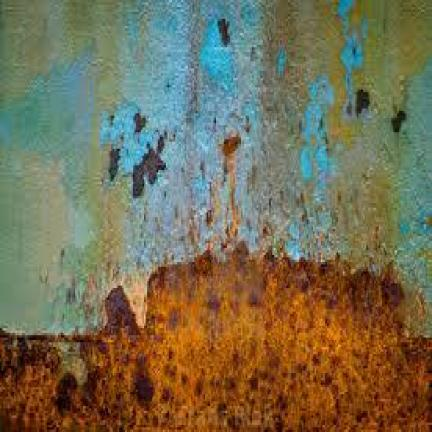besi_tidak_karat: (0, 0, 430, 330)
karat: (0, 253, 430, 430), (131, 137, 164, 196), (105, 286, 138, 333), (222, 132, 239, 153), (108, 149, 119, 179), (355, 90, 368, 113), (391, 111, 405, 132), (218, 19, 229, 45)
